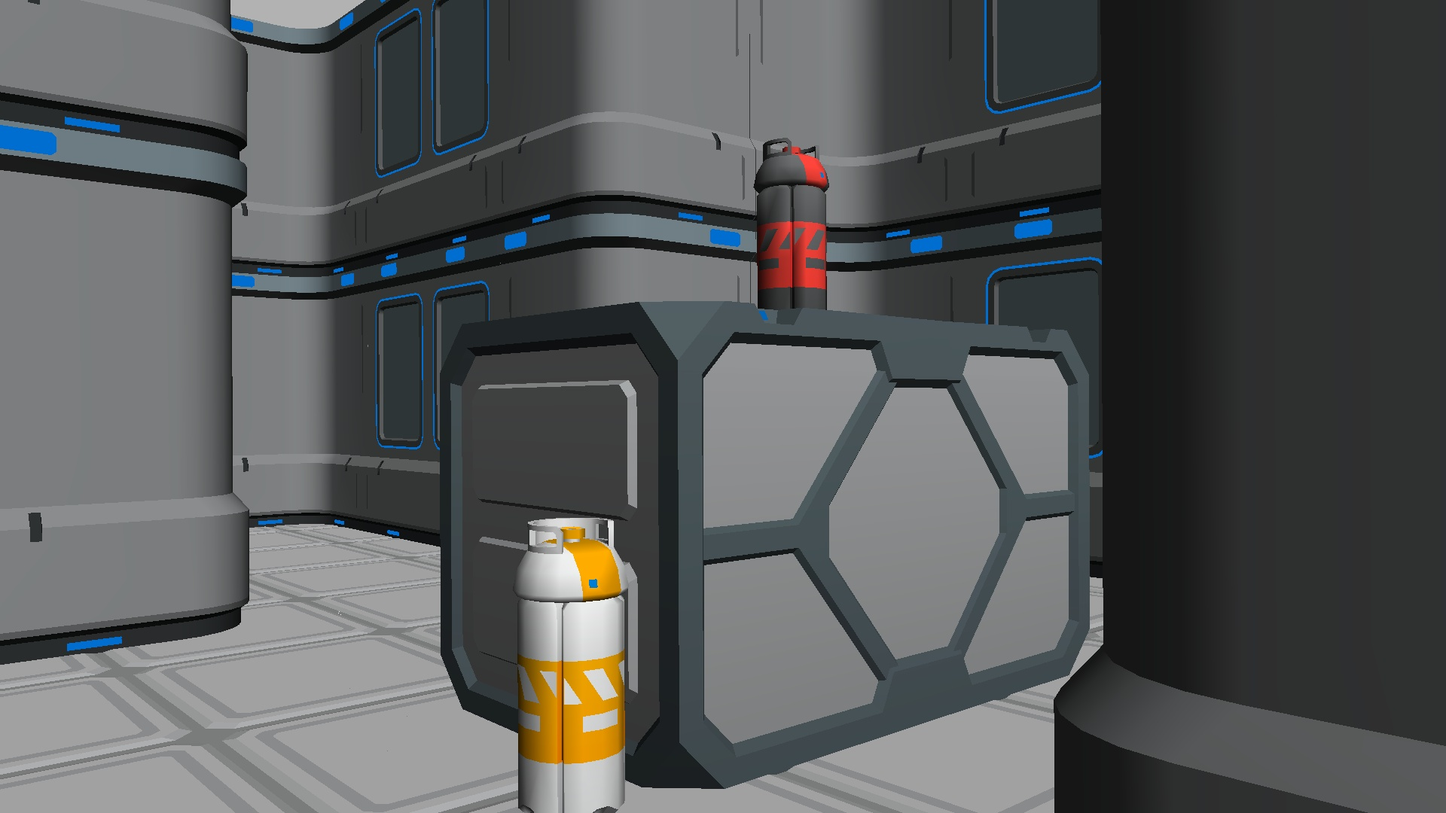red barrel: (753, 138, 829, 310)
yellow barrel: (515, 518, 639, 813)
